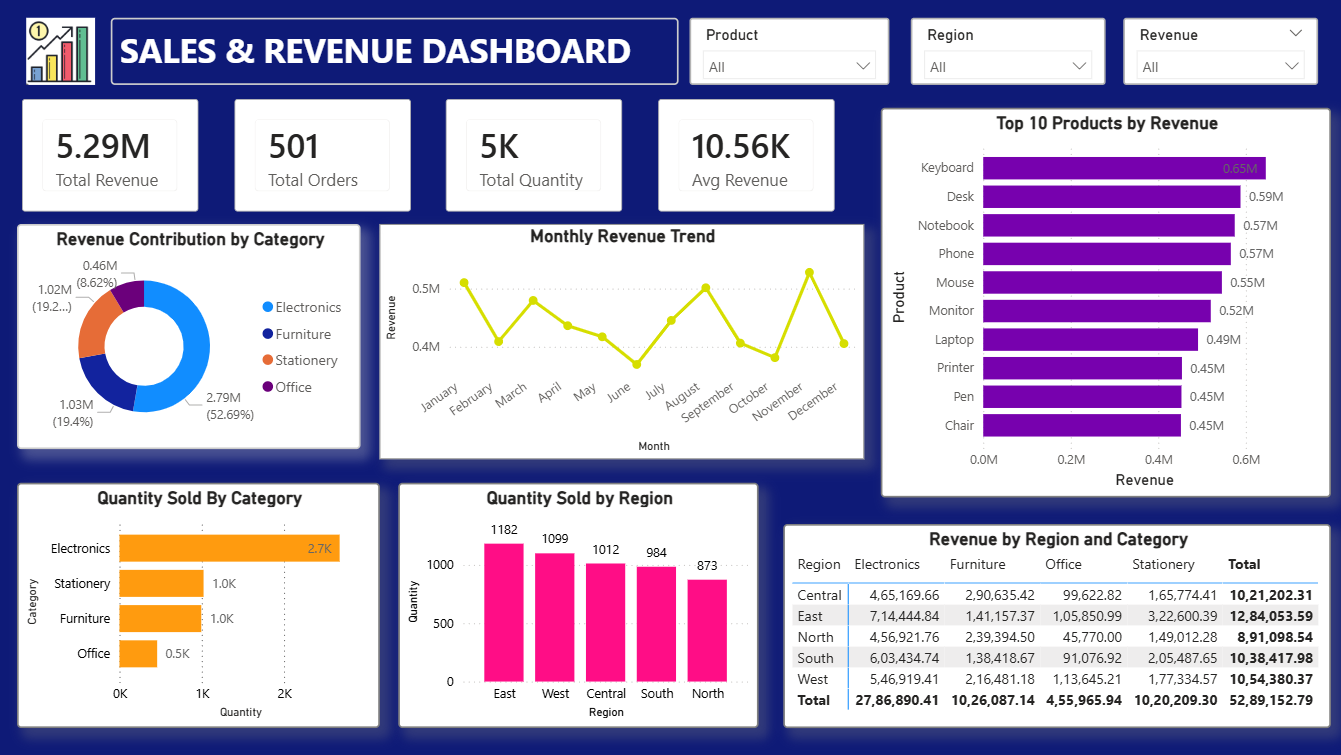

This screenshot's page, from the dashboard's own definition file:
{"tool":"powerbi","page":{"name":"Page 1","canvas":[1280,720],"ordinal":0},"visuals":[{"type":"clusteredBarChart","title":"Top 10 Products by Revenue","fields":{"Category":["Sheet1.Product"],"Y":["Sum(Sheet1.Revenue)"]},"box":[841.7,103.6,428.6,371.4],"z":1},{"type":"clusteredBarChart","title":"Quantity Sold By Category","fields":{"Category":["Sheet1.Category"],"Y":["Sum(Sheet1.Quantity)"]},"box":[19,460.7,345.2,233.3],"z":2},{"type":"columnChart","title":"Quantity Sold by Region","fields":{"Category":["Sheet1.Region"],"Y":["Sum(Sheet1.Quantity)"]},"box":[382.1,460.7,342.9,233.3],"z":3},{"type":"lineChart","title":"Monthly Revenue Trend","fields":{"Y":["Sum(Sheet1.Revenue)"],"Category":["Sheet1.Order Date.Variation.Date Hierarchy.Month"]},"box":[364.3,214.3,461.9,223.8],"z":4},{"type":"donutChart","title":"Revenue Contribution by Category","fields":{"Category":["Sheet1.Category"],"Y":["Sum(Sheet1.Revenue)"]},"box":[19,214.3,327.4,214.3],"z":5},{"type":"pivotTable","title":"Revenue by Region and Category","fields":{"Rows":["Sheet1.Region"],"Columns":["Sheet1.Category"],"Values":["Sum(Sheet1.Revenue)"]},"box":[748.8,500,521.4,194],"z":7},{"type":"cardVisual","fields":{"Data":["Sheet1.Total Revenue"]},"box":[23.8,95.2,167.9,107.1],"z":8},{"type":"cardVisual","fields":{"Data":["Sheet1.Total Orders"]},"box":[226.2,95.2,167.9,107.1],"z":9},{"type":"cardVisual","fields":{"Data":["Sheet1.Total Quantity Sold"]},"box":[427.4,95.2,167.9,107.1],"z":10},{"type":"cardVisual","fields":{"Data":["Sheet1.Average Revenue per Order"]},"box":[629.8,95.2,167.9,107.1],"z":11},{"type":"slicer","fields":{"Values":["Sheet1.Region"]},"box":[870.2,17.9,185.7,64.3],"z":13},{"type":"slicer","fields":{"Values":["Sheet1.Revenue"]},"box":[1072.6,17.9,185.7,64.3],"z":14},{"type":"slicer","fields":{"Values":["Sheet1.Product"]},"box":[659.5,17.9,190.5,64.3],"z":15},{"type":"image","box":[23.8,17.9,73.8,64.3],"z":16},{"type":"textbox","box":[108.3,17.9,540.5,64.3],"z":17}]}

Visuals, with their boxes in screenshot pixels (x1, y1, x2, y2), scaled from the page's 1280x720 canvas onto the 1341x755 screenshot:
"Top 10 Products by Revenue" clusteredBarChart: bbox=(882, 109, 1331, 498)
"Quantity Sold By Category" clusteredBarChart: bbox=(20, 483, 382, 728)
"Quantity Sold by Region" columnChart: bbox=(400, 483, 760, 728)
"Monthly Revenue Trend" lineChart: bbox=(382, 225, 866, 459)
"Revenue Contribution by Category" donutChart: bbox=(20, 225, 363, 449)
"Revenue by Region and Category" pivotTable: bbox=(784, 524, 1331, 728)
cardVisual - Sheet1.Total Revenue: bbox=(25, 100, 201, 212)
cardVisual - Sheet1.Total Orders: bbox=(237, 100, 413, 212)
cardVisual - Sheet1.Total Quantity Sold: bbox=(448, 100, 624, 212)
cardVisual - Sheet1.Average Revenue per Order: bbox=(660, 100, 836, 212)
slicer - Sheet1.Region: bbox=(912, 19, 1106, 86)
slicer - Sheet1.Revenue: bbox=(1124, 19, 1318, 86)
slicer - Sheet1.Product: bbox=(691, 19, 891, 86)
image: bbox=(25, 19, 102, 86)
textbox: bbox=(113, 19, 680, 86)
